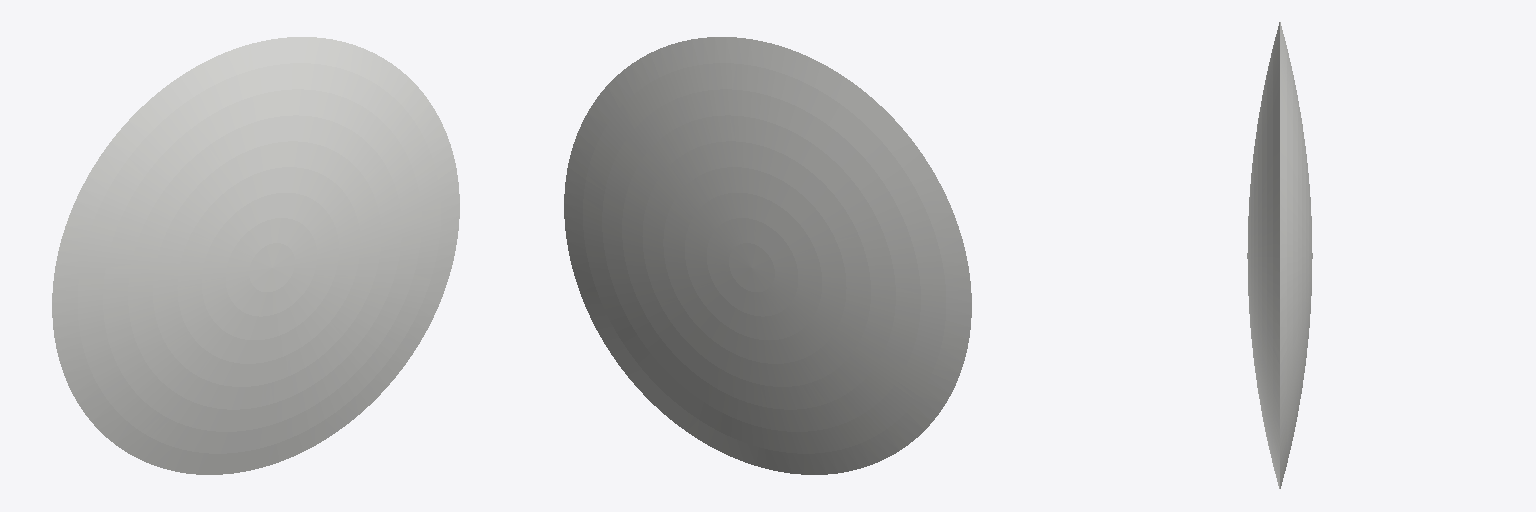
The model's file is top_lens.obj.
3 renders of one model, left to right at view 1: azimuth 30°, elevation 25°; view 2: azimuth 150°, elevation 25°; view 3: azimuth 270°, elevation 25°, orthographic.
Parts seen in each view (by area): view 1: MeshBody4; view 2: MeshBody4; view 3: MeshBody4.
Part boxes in pixels (x1,y1,x2,y2): MeshBody4: (52,37,459,474); MeshBody4: (564,37,971,474); MeshBody4: (1247,22,1312,488).
Bounding box in the file's own units: 2.17 × 2.17 × 0.3.